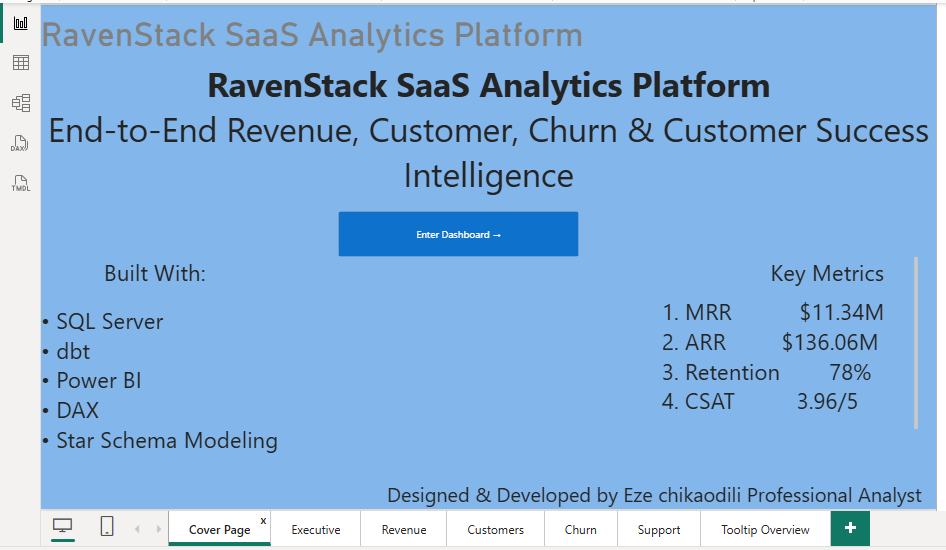

Layout of this report page (visuals, bound fields, positions):
{"tool":"powerbi","page":{"name":"Cover Page","canvas":[1920,1080],"ordinal":0},"visuals":[{"type":"textbox","title":"RavenStack SaaS Analytics Platform","box":[0,21.5,1920,403.3],"z":1},{"type":"textbox","box":[0,540.6,540.6,422.6],"z":2},{"type":"textbox","box":[1332.2,540.6,549.2,373.3],"z":3},{"type":"actionButton","box":[637.1,441.9,517,98.7],"z":4},{"type":"textbox","box":[637.1,931,1282.9,148],"z":5}]}

Visuals, with their boxes on the page's 1920x1080 design canvas (x1, y1, x2, y2). These are canvas units, not pixel positions in the 946x550 screenshot, which may show the page scaled, cropped or inside an application window:
"RavenStack SaaS Analytics Platform" textbox: 0,22,1920,425
textbox: 0,541,541,963
textbox: 1332,541,1881,914
actionButton: 637,442,1154,541
textbox: 637,931,1920,1079
